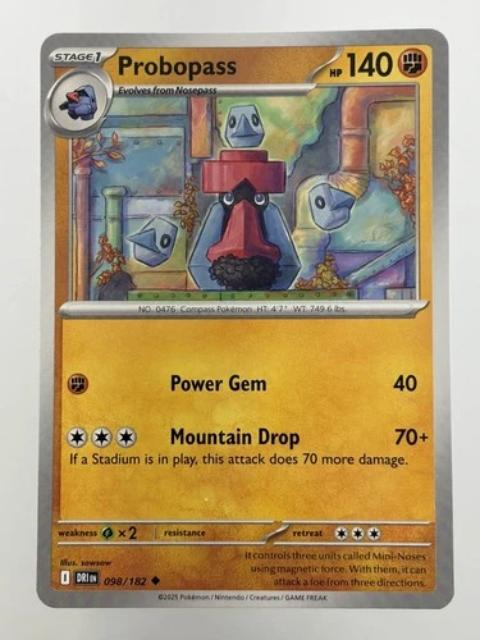Card: (28, 22, 458, 609)
Name: (113, 52, 237, 82)
